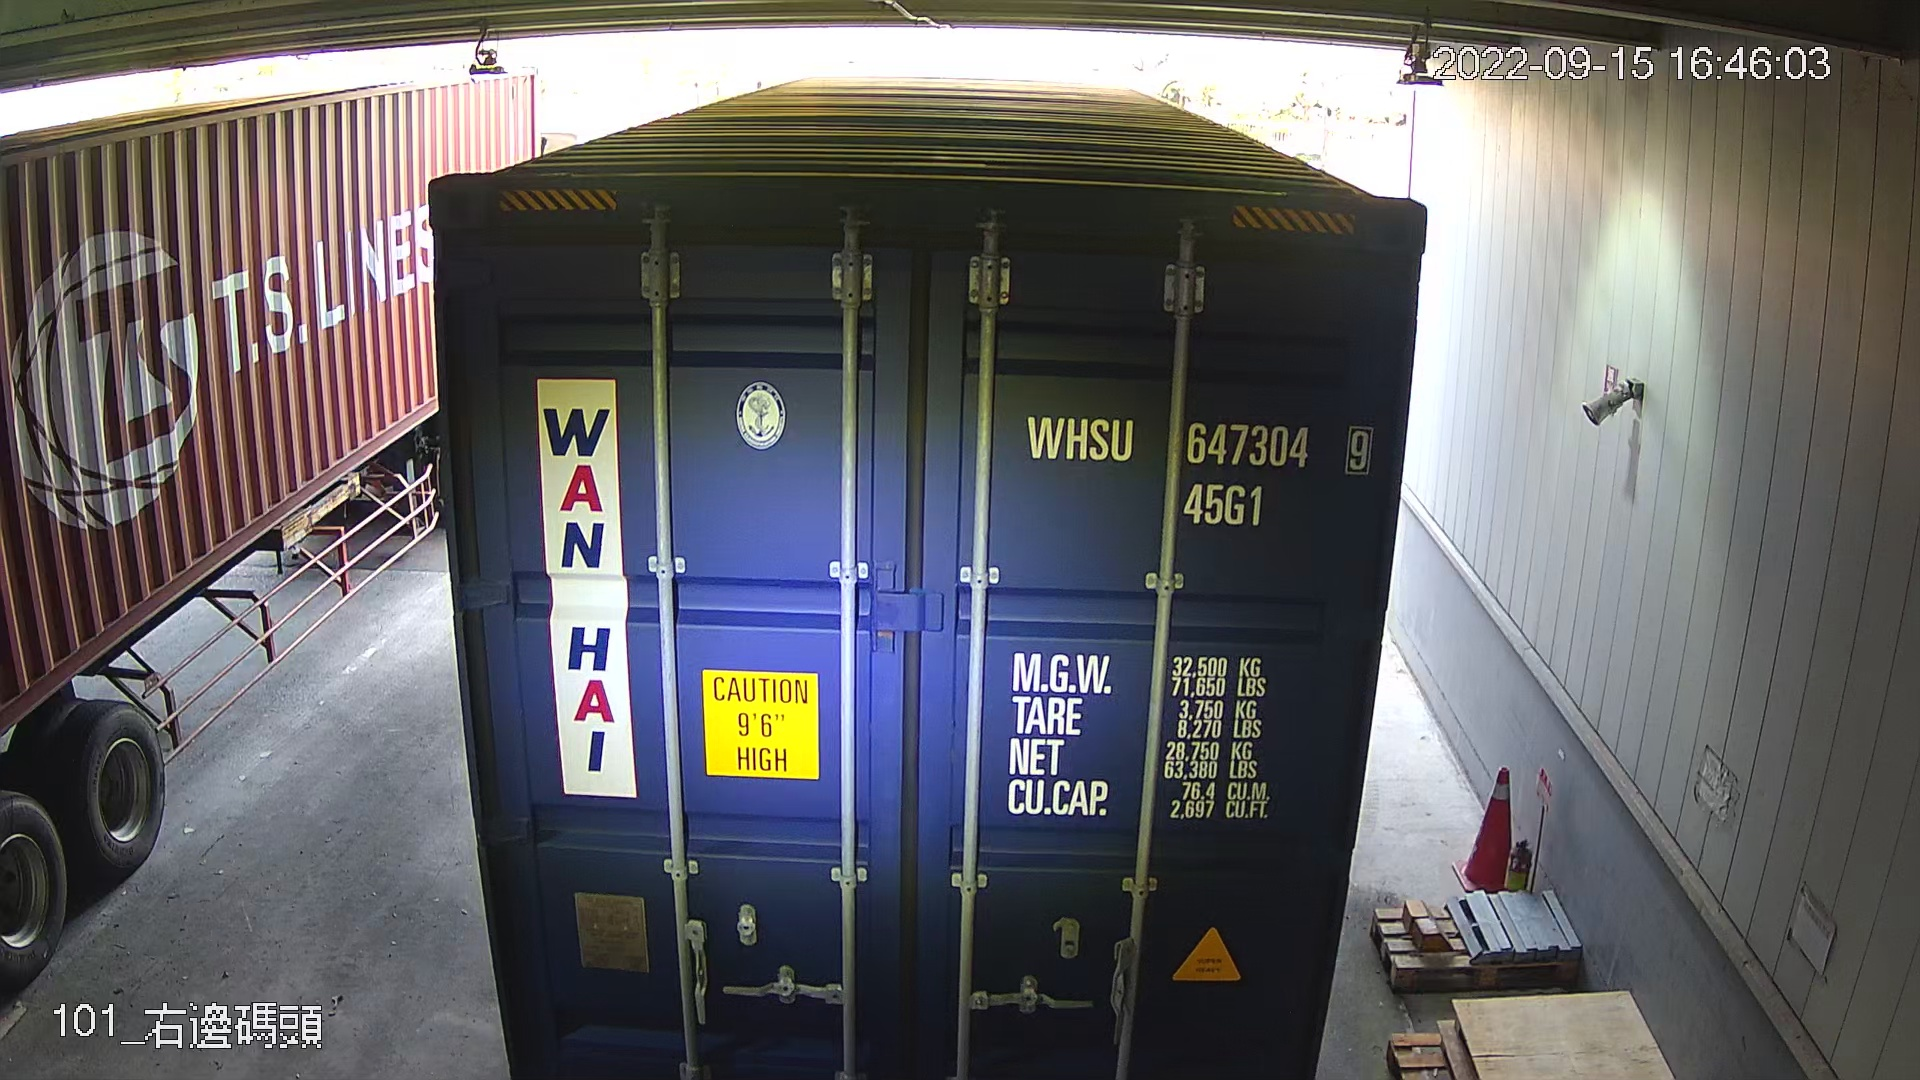container: (1017, 402, 1381, 531)
